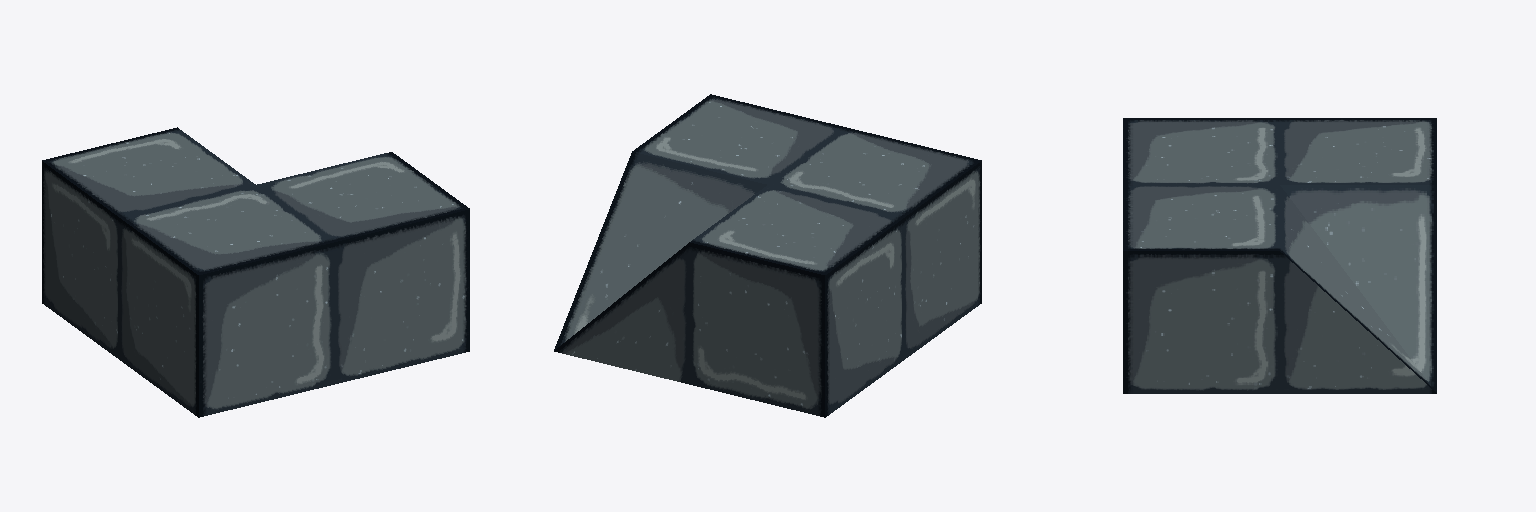
The picture shows the model from 3 angles: view 1: azimuth 30°, elevation 25°; view 2: azimuth 150°, elevation 25°; view 3: azimuth 270°, elevation 25°; orthographic projection.
Visible parts, largest first — view 1: 11_stone; view 2: 11_stone; view 3: 11_stone.
Part boxes in pixels (x1,y1,x2,y2): 11_stone: (42, 127, 469, 417); 11_stone: (554, 94, 981, 417); 11_stone: (1123, 118, 1436, 393).
Bounding box in the file's own units: 1 × 0.5 × 1.
1 materials, 1 textured.